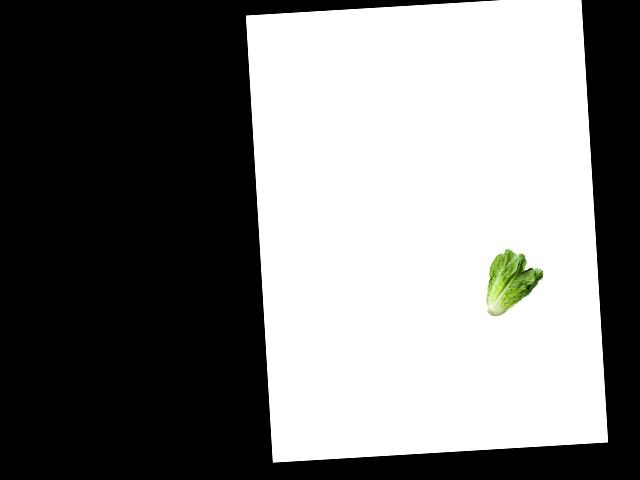lettuce: (478, 247, 548, 320)
